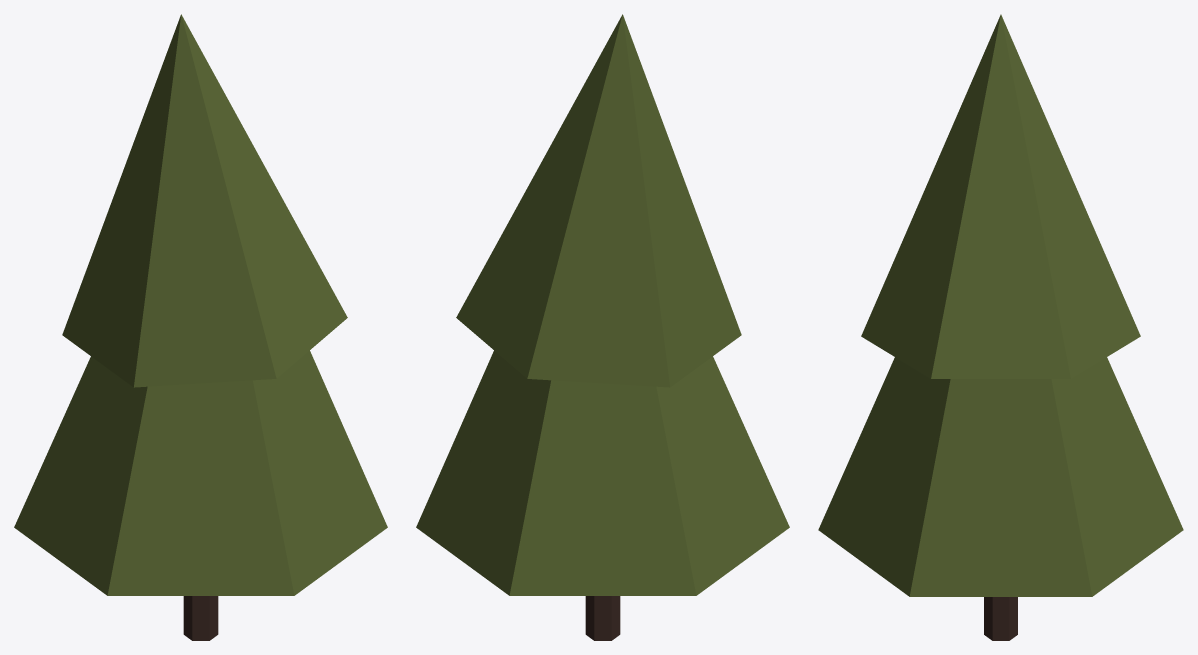
File: Tree Type1 02.glb
3 views of the same model, side by side, from view 1: azimuth 30°, elevation 25°; view 2: azimuth 150°, elevation 25°; view 3: azimuth 270°, elevation 25° (orthographic). The views are drawn at different scales.
Visible parts, largest first — view 1: Tree_Type1_02_mesh; view 2: Tree_Type1_02_mesh; view 3: Tree_Type1_02_mesh.
Part boxes in pixels (left/top/right/bottom): Tree_Type1_02_mesh: left=14, top=14, right=387, bottom=640; Tree_Type1_02_mesh: left=416, top=14, right=789, bottom=640; Tree_Type1_02_mesh: left=818, top=14, right=1183, bottom=640.
Size of the model in its own units: 1.1 by 2.33 by 1.26.
1 material, 1 textured.
